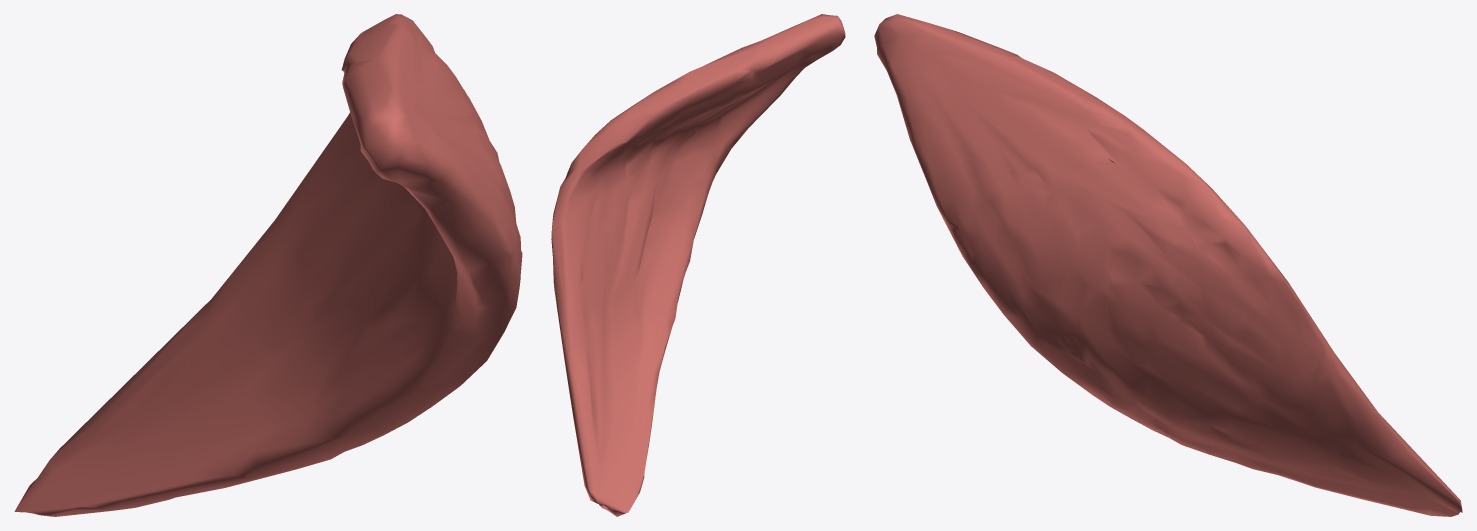
3 renders of one model, left to right at view 1: azimuth 30°, elevation 25°; view 2: azimuth 150°, elevation 25°; view 3: azimuth 270°, elevation 25°, orthographic. The views are drawn at different scales.
Parts seen in each view (by area): view 1: 左侧环杓侧肌; view 2: 左侧环杓侧肌; view 3: 左侧环杓侧肌.
Boxes of the visible parts, x1,y1,x2,y2 form: 左侧环杓侧肌: [14, 14, 522, 516]; 左侧环杓侧肌: [551, 14, 845, 516]; 左侧环杓侧肌: [874, 14, 1462, 516].
Bounding box in the file's own units: 0.00655 × 0.0147 × 0.0158.
